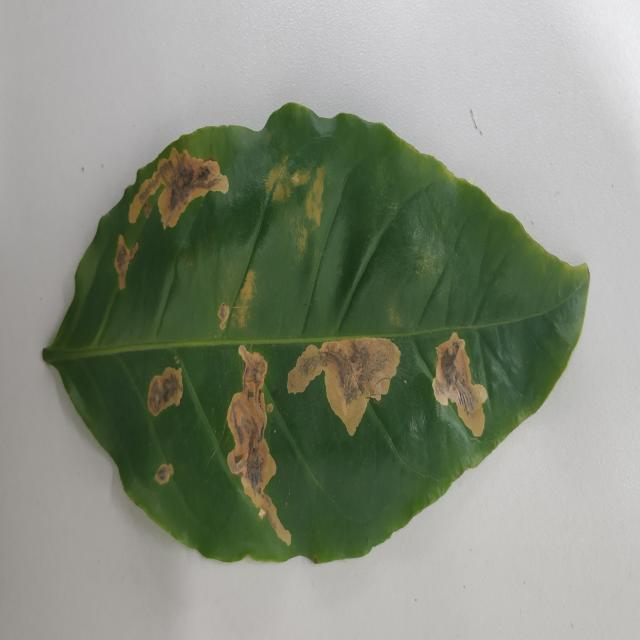Plaga-Minador: (40, 103, 590, 568)
